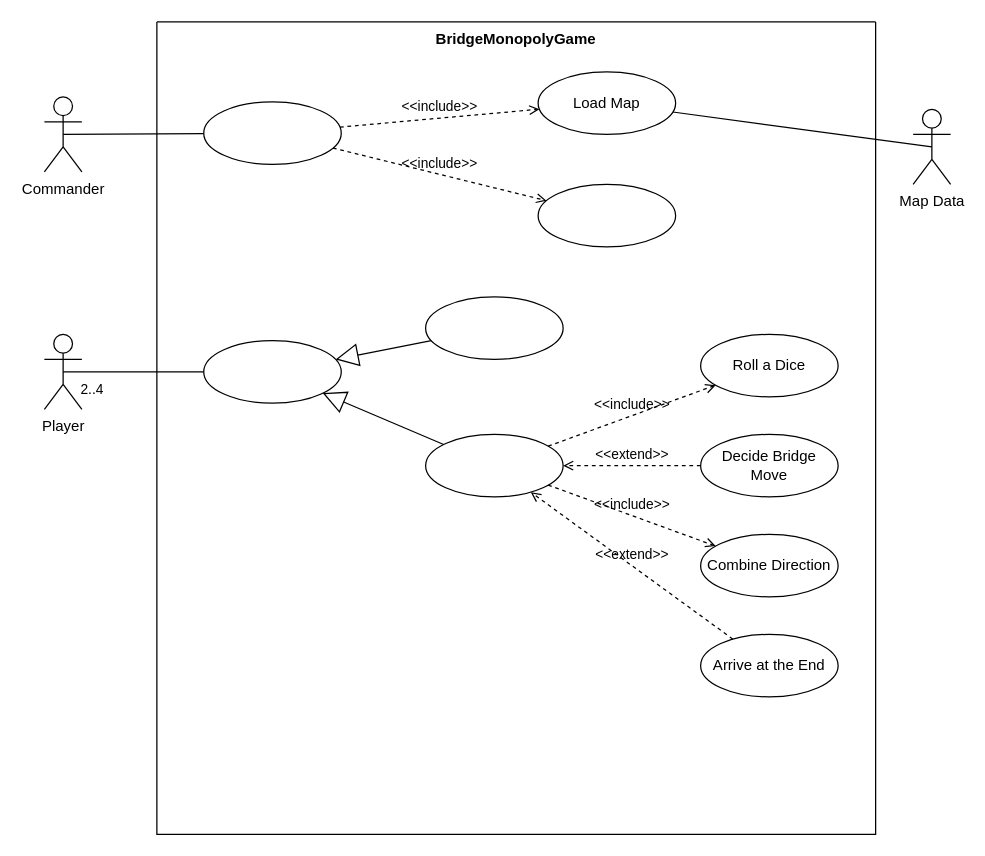
The diagram is 985 pixels wide and 856 high, and some of its shapes have lost their labels. The centre of each missing label's shape, as x and y in pixels:
"Initialize Players" belongs at (606,215).
"Move Piece Turn" belongs at (493,465).
"Start the Game" belongs at (271,132).
"Stay Turn" belongs at (493,327).
"{abstract} Proceed a Turn" belongs at (271,371).
